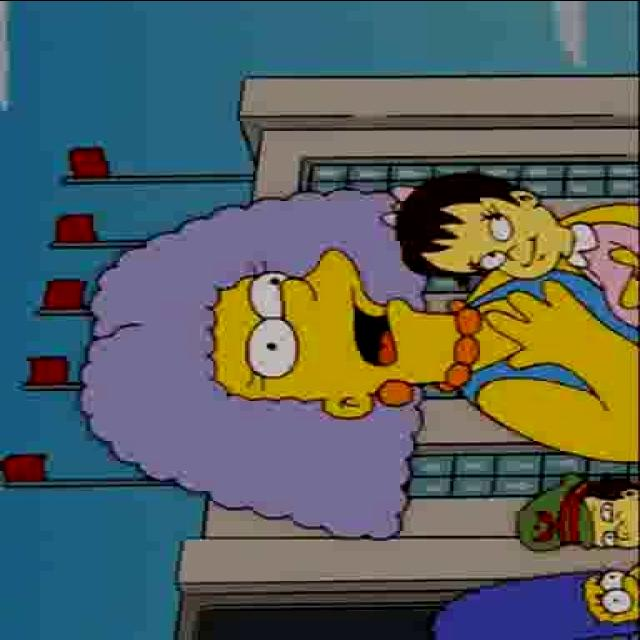Marge Simpson: (428, 563, 638, 639)
